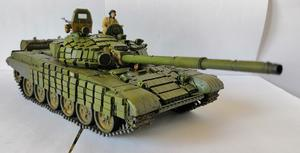t72: (11, 15, 285, 133)
